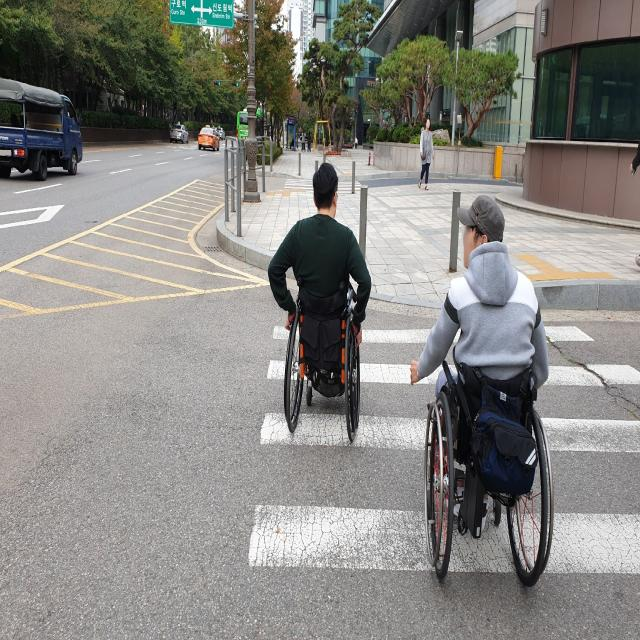횡단보도: (244, 318, 640, 585)
